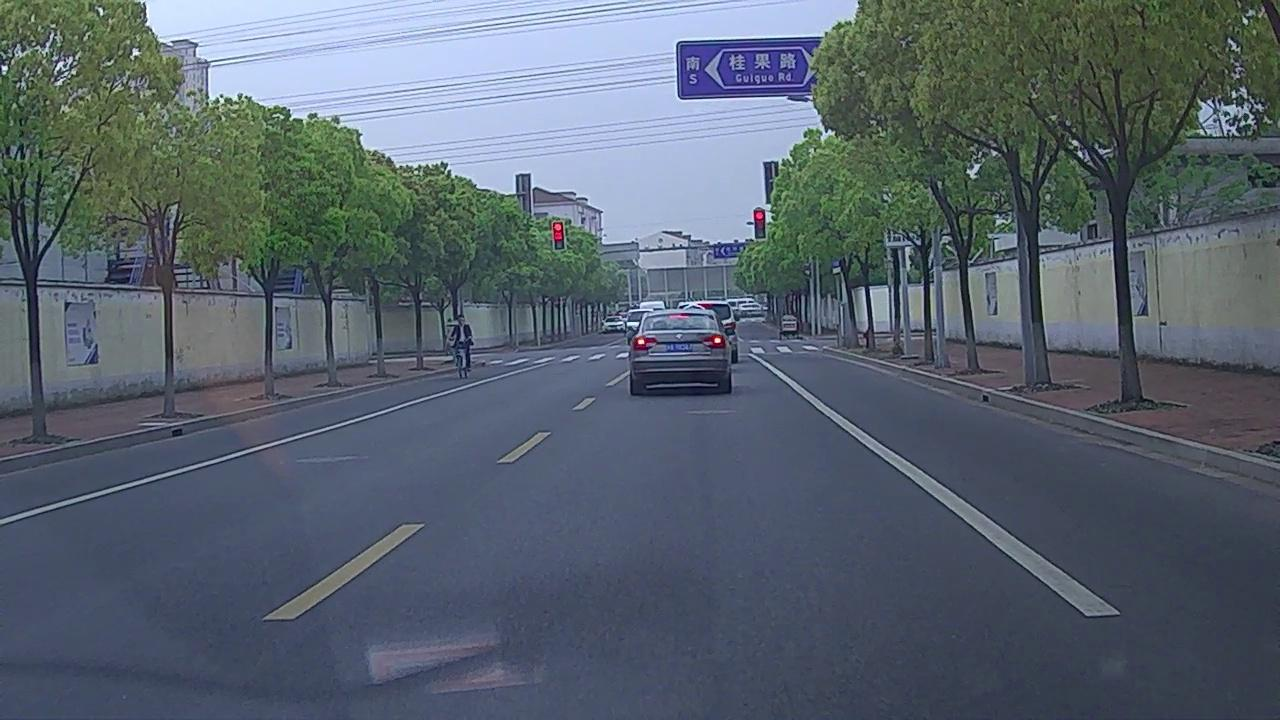traffic_light: (754, 209, 766, 238), (553, 222, 565, 250)
